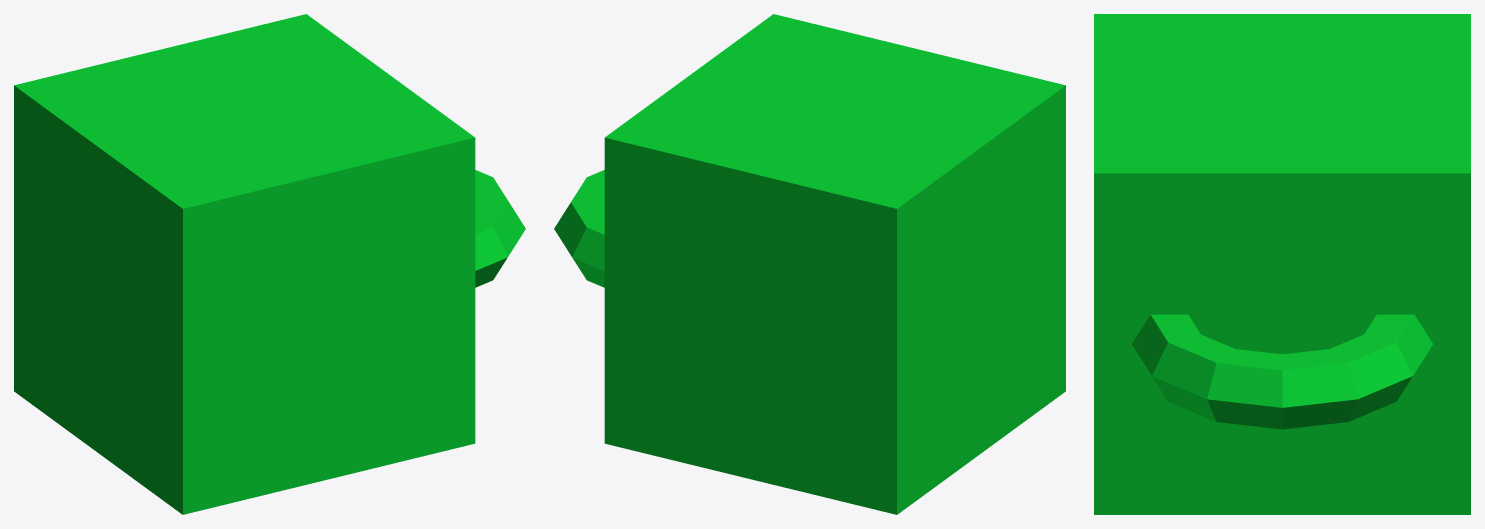
The model's file is anchor.fbx.
3 renders of one model, left to right at view 1: azimuth 30°, elevation 25°; view 2: azimuth 150°, elevation 25°; view 3: azimuth 270°, elevation 25°, orthographic. The views are drawn at different scales.
Visible parts, largest first — view 1: Cube; view 2: Cube; view 3: Cube.
Boxes of the visible parts, box(x1,y1,x2,y2) form: Cube: box(14, 14, 525, 514); Cube: box(554, 14, 1065, 514); Cube: box(1094, 14, 1470, 514).
Bounding box in the file's own units: 2.8 × 2 × 2.
